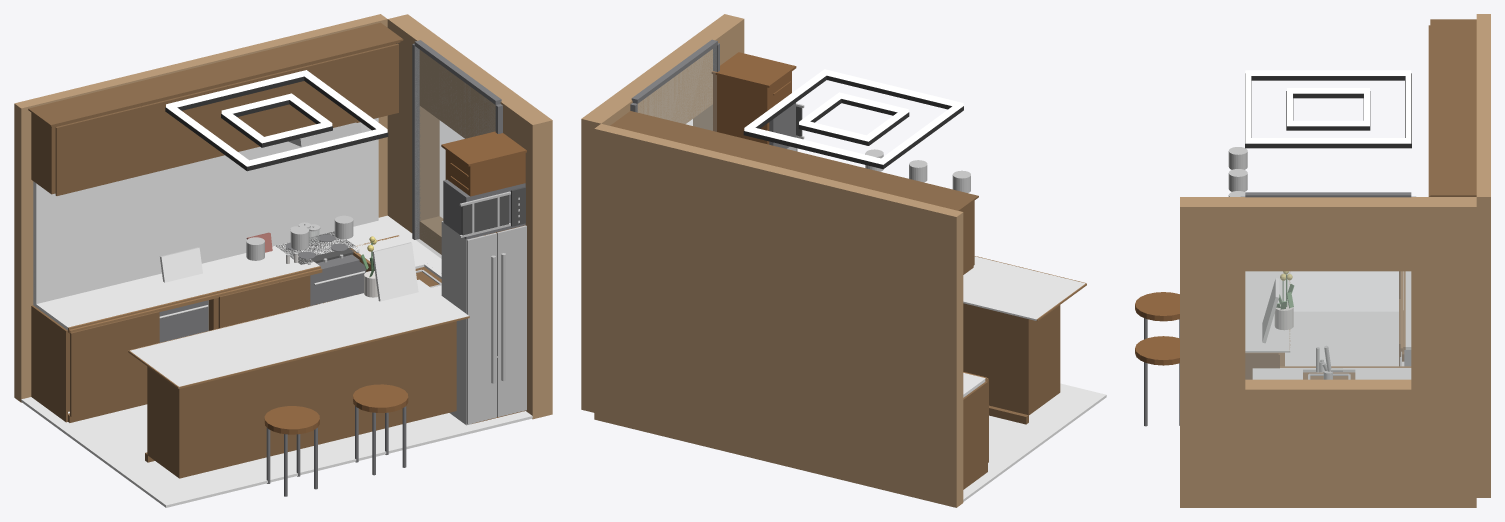
3 renders of one model, left to right at view 1: azimuth 30°, elevation 25°; view 2: azimuth 150°, elevation 25°; view 3: azimuth 270°, elevation 25°, orthographic. The views are drawn at different scales.
Parts seen in each view (by area): view 1: FUR_r02_backsplash, FUR_r02_bar_body, FUR_r02_bar_counter, ARC_Floor_r02_kitchen, ARC_Wall_N_Kitchen, ARC_Wall_E_PierS, FUR_r02_cab_upper_crown_step, ARC_Win_W_KIT_OUTER_Glass, FUR_r02_ctr_main, ARC_Wall_E_PierN, FUR_r02_cab_upper_door_1, ARC_Wall_E_Lintel (+43 smaller); view 2: ARC_Wall_N_Kitchen, FUR_r02_cab_upper_crown_step, FUR_r02_bar_door_1, ARC_Wall_E_PierN, FUR_r02_bar_counter, ARC_Floor_r02_kitchen, ARC_Wall_E_Lintel, ARC_Win_W_KIT_OUTER_Glass, FUR_r02_cab_tall, FUR_r02_bar_body, FUR_r02_cab_lower_n_sideW, ARC_Wall_E_PierS (+10 smaller); view 3: ARC_Wall_E_Sill, ARC_Wall_E_PierN, ARC_Wall_E_PierS, ARC_Win_W_KIT_OUTER_Glass, ARC_Wall_E_Lintel, FUR_r02_cab_upper_crown_step, ARC_Wall_N_Kitchen, ARC_Floor_r02_kitchen, FUR_r02_bar_counter, FUR_r02_bar_stool_2_seat, FUR_r02_bar_stool_1_seat, IOT_LIGHT_PROFILE_KITCHEN_OUTER_E (+18 smaller).
Boxes of the visible parts, x1=… form: FUR_r02_backsplash: x1=33, y1=118, x2=378, y2=303; FUR_r02_bar_body: x1=148, y1=321, x2=456, y2=478; FUR_r02_bar_counter: x1=129, y1=279, x2=468, y2=388; ARC_Floor_r02_kitchen: x1=21, y1=397, x2=532, y2=507; ARC_Wall_N_Kitchen: x1=14, y1=14, x2=387, y2=402; ARC_Wall_E_PierS: x1=500, y1=97, x2=552, y2=419; FUR_r02_cab_upper_crown_step: x1=28, y1=22, x2=403, y2=126; ARC_Win_W_KIT_OUTER_Glass: x1=416, y1=47, x2=495, y2=257; FUR_r02_ctr_main: x1=33, y1=243, x2=319, y2=330; ARC_Wall_E_PierN: x1=387, y1=14, x2=439, y2=232; FUR_r02_cab_upper_door_1: x1=55, y1=106, x2=142, y2=195; ARC_Wall_E_Lintel: x1=419, y1=37, x2=520, y2=138; ARC_Wall_N_Kitchen: x1=594, y1=123, x2=963, y2=507; FUR_r02_cab_upper_crown_step: x1=610, y1=111, x2=978, y2=210; FUR_r02_bar_door_1: x1=963, y1=303, x2=1029, y2=414; ARC_Wall_E_PierN: x1=581, y1=96, x2=632, y2=412; FUR_r02_bar_counter: x1=963, y1=256, x2=1085, y2=320; ARC_Floor_r02_kitchen: x1=963, y1=383, x2=1106, y2=501; ARC_Wall_E_Lintel: x1=613, y1=37, x2=712, y2=123; ARC_Win_W_KIT_OUTER_Glass: x1=638, y1=46, x2=716, y2=131; FUR_r02_cab_tall: x1=713, y1=71, x2=791, y2=144; FUR_r02_bar_body: x1=1029, y1=305, x2=1060, y2=414; FUR_r02_cab_lower_n_sideW: x1=963, y1=381, x2=987, y2=489; ARC_Wall_E_PierS: x1=693, y1=14, x2=744, y2=130; ARC_Wall_E_Sill: x1=1245, y1=379, x2=1411, y2=507; ARC_Wall_E_PierN: x1=1411, y1=197, x2=1476, y2=507; ARC_Wall_E_PierS: x1=1180, y1=197, x2=1245, y2=507; ARC_Win_W_KIT_OUTER_Glass: x1=1245, y1=271, x2=1410, y2=379; ARC_Wall_E_Lintel: x1=1245, y1=197, x2=1411, y2=271; FUR_r02_cab_upper_crown_step: x1=1430, y1=19, x2=1476, y2=196; ARC_Wall_N_Kitchen: x1=1476, y1=14, x2=1490, y2=497; ARC_Floor_r02_kitchen: x1=1285, y1=311, x2=1404, y2=372; FUR_r02_bar_counter: x1=1245, y1=271, x2=1290, y2=352; FUR_r02_bar_stool_2_seat: x1=1135, y1=336, x2=1179, y2=365; FUR_r02_bar_stool_1_seat: x1=1135, y1=292, x2=1179, y2=321; IOT_LIGHT_PROFILE_KITCHEN_OUTER_E: x1=1245, y1=138, x2=1411, y2=143.
Size of the model in its own units: 3.85 by 2.82 by 3.
